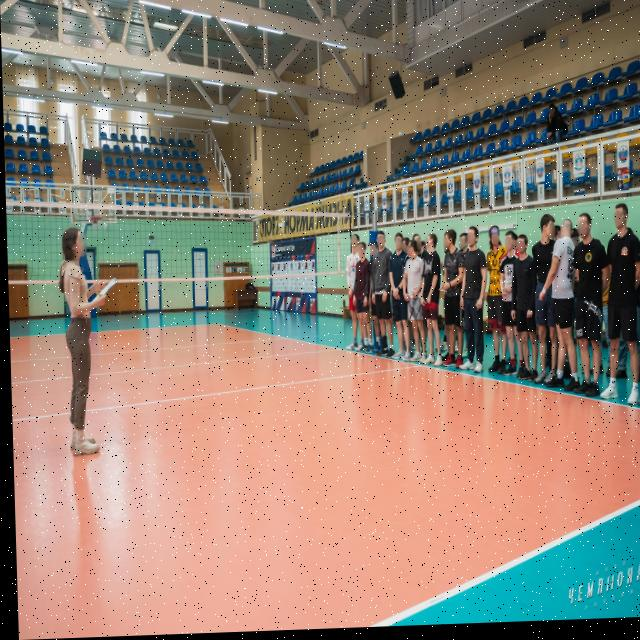Person: (54, 221, 104, 469), (592, 203, 640, 412), (570, 213, 603, 412), (545, 222, 577, 405), (531, 216, 558, 393), (483, 228, 509, 382), (514, 235, 538, 393), (460, 226, 484, 379), (438, 230, 463, 375), (420, 236, 443, 376), (500, 231, 520, 382), (372, 233, 394, 369), (402, 240, 425, 369), (390, 236, 411, 366), (352, 242, 372, 359), (344, 235, 362, 355), (539, 100, 574, 156), (455, 231, 473, 257), (412, 232, 424, 257), (548, 229, 562, 250), (367, 240, 379, 264), (570, 229, 581, 251)
